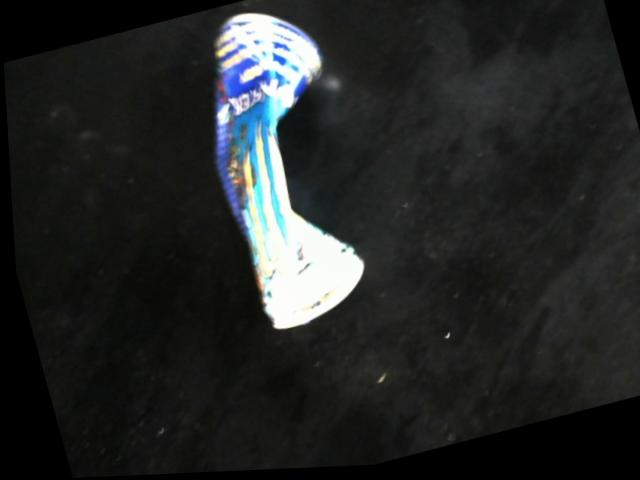can: (211, 12, 371, 336)
